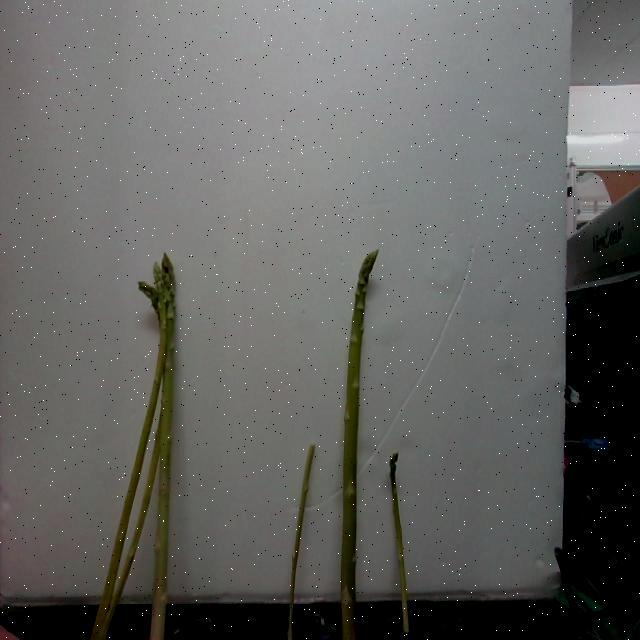aspargus: (342, 250, 379, 640), (149, 255, 176, 640)
